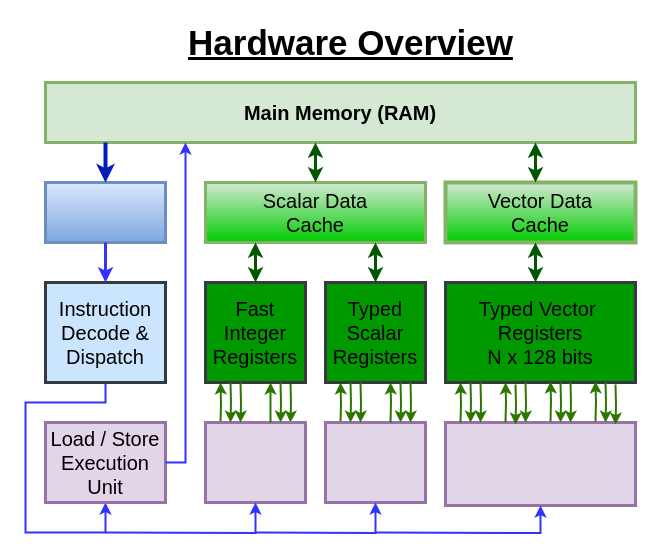
Image size: 654x559. Some labels were removed from this diagram. The centre of each missing label's shape, as x and y in pixels:
"Fast Integer EUs" belongs at point 255,462.
"Instruction Cache" belongs at point 105,212.
"Typed Scalar EUs" belongs at point 375,462.
"Typed Vector Execution Units" belongs at point 540,463.
